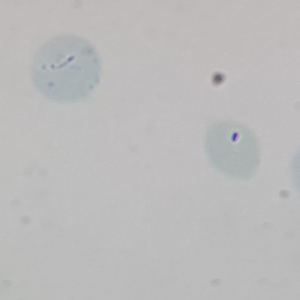erythrocyte: (202, 117, 264, 184)
punctate reticulocyte: (28, 33, 105, 106)
